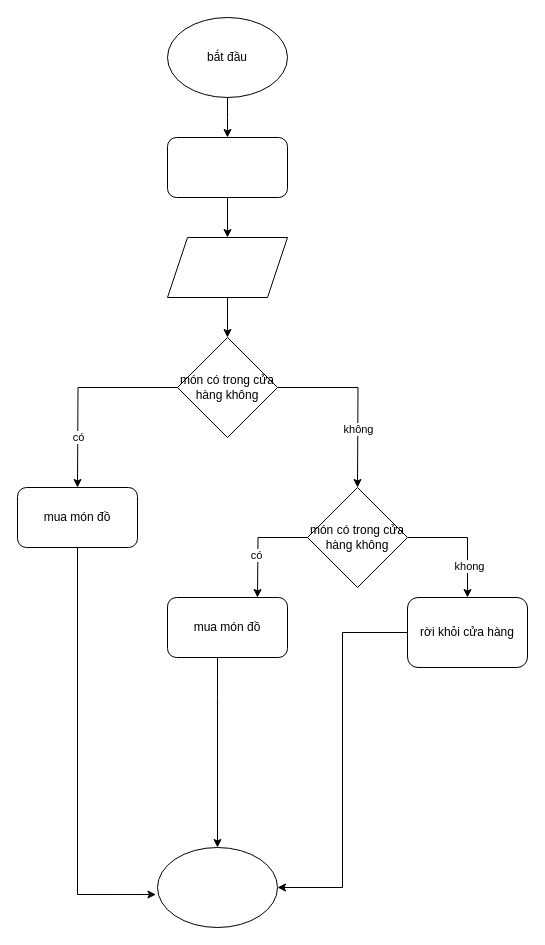
This 545x945 diagram has some shape labels left out. The shapes that lost their labels are listed below. From the top down, each one's centre as x and y in pixels, then its label:
the point at 227,167: vào cửa hàng
the point at 227,267: tìm kiếm món đồ
the point at 217,887: kết thúc
